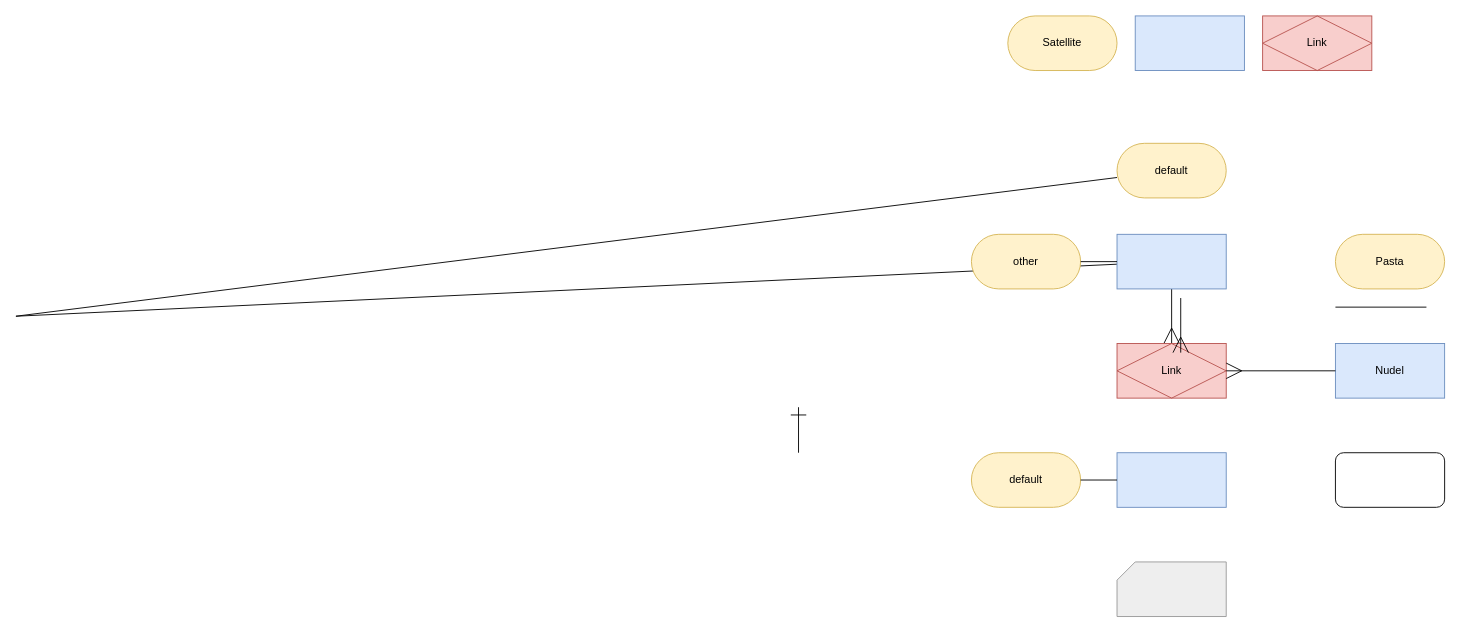
The diagram is 1461 pixels wide and 632 high, and some of its shapes have lost their labels. The box of each missing label's shape, as (x1, y1, x2, y2) in pixels:
Child: (1116, 452, 1226, 507)
Hub: (1134, 15, 1244, 71)
Parent: (1116, 233, 1226, 289)
Reference: (1116, 561, 1226, 617)
